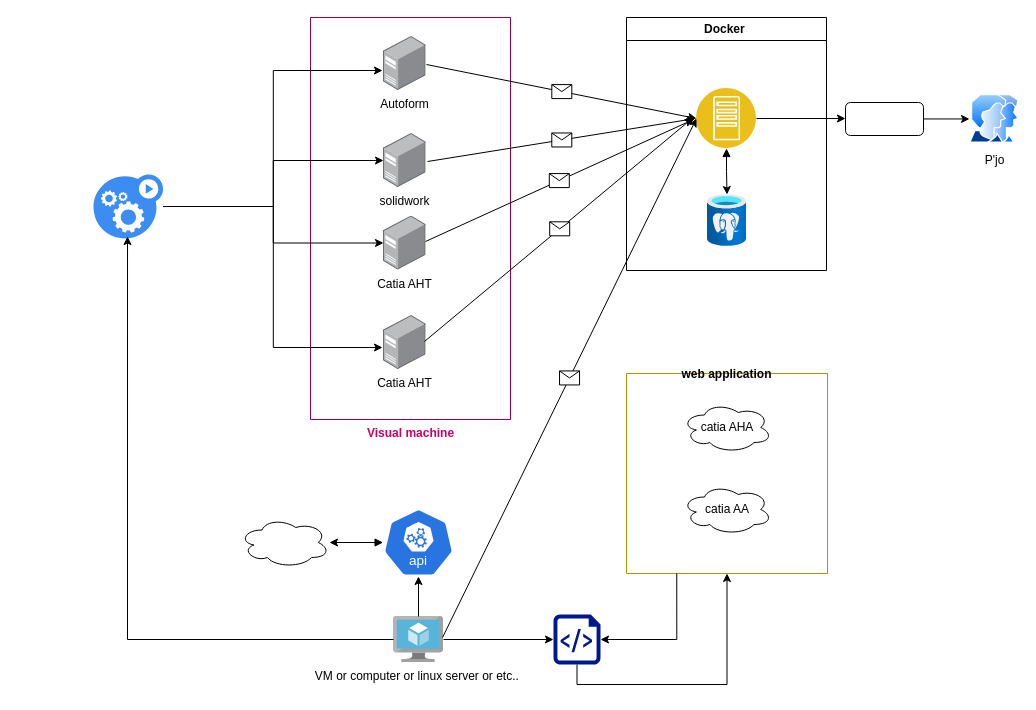
This 1036x710 diagram has some shape labels left out. Each missing label, with the centre of its shape:
"API server" belongs at [726,118].
"Autodesk" belongs at [284,542].
"logs api" belongs at [884,119].
"putty,ssh winRM" belongs at [128,206].
"script" belongs at [576,639].
